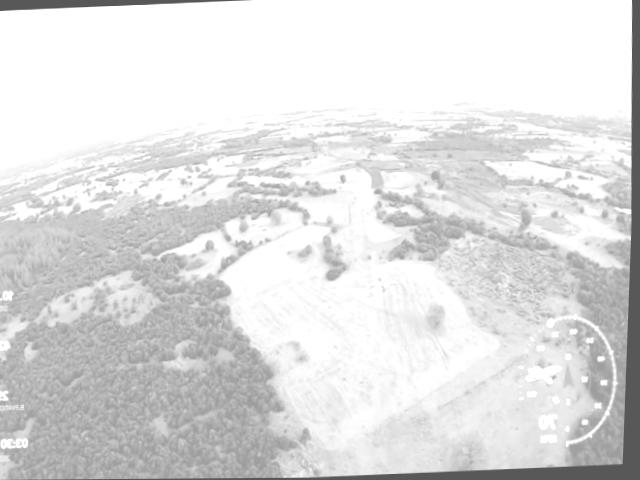hedef: (362, 272, 403, 299)
